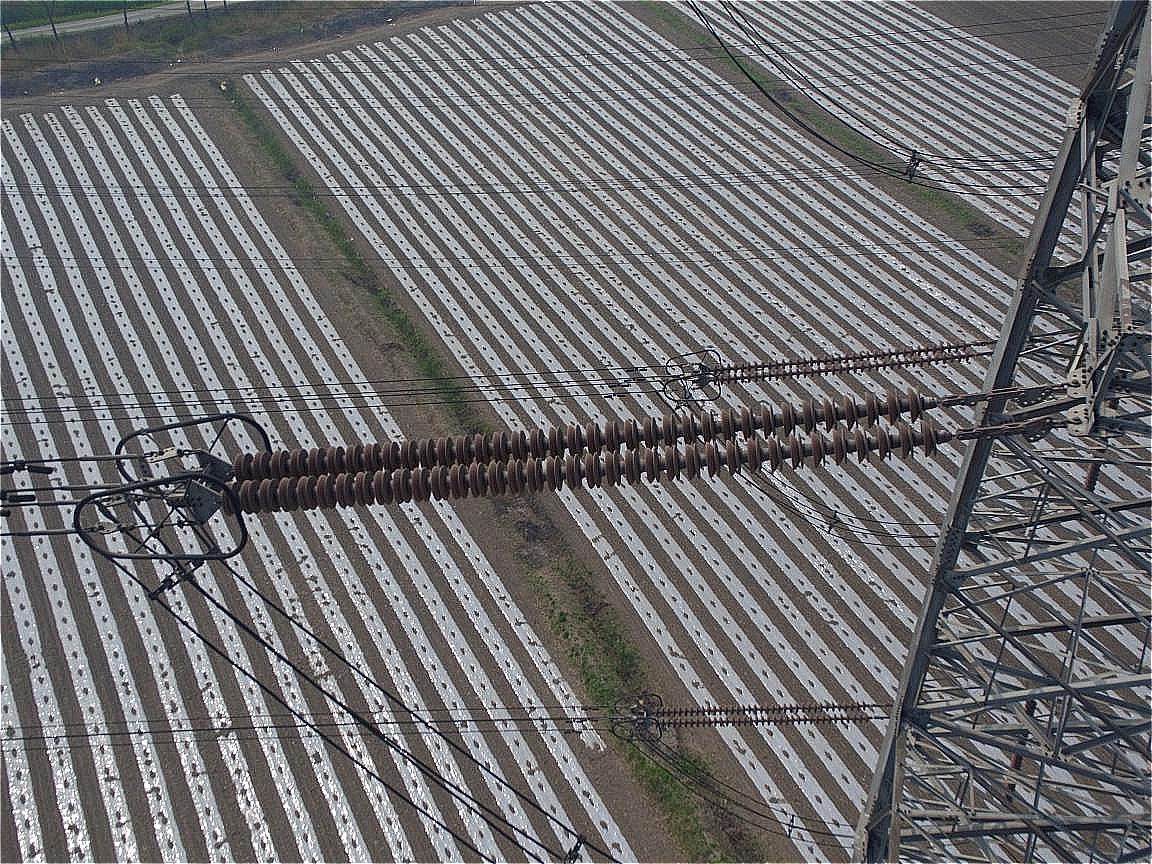insultor1: (636, 686, 887, 744), (699, 338, 978, 384)
insultor2: (165, 372, 952, 526)
